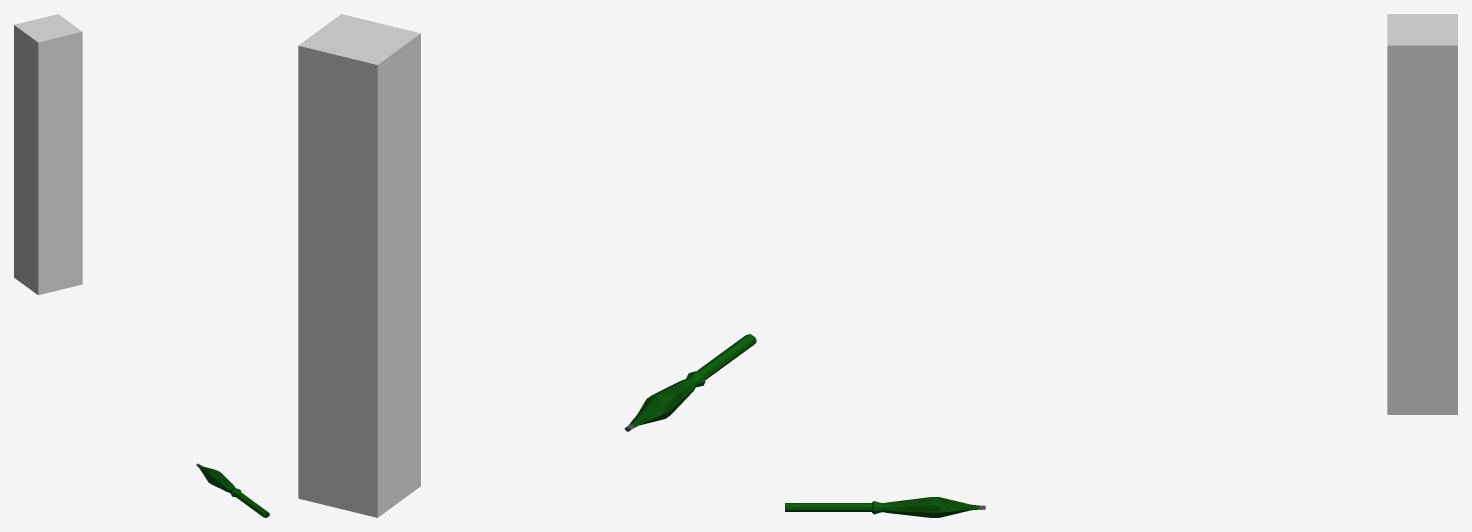
File: rocket.glb
3 renders of one model, left to right at view 1: azimuth 30°, elevation 25°; view 2: azimuth 150°, elevation 25°; view 3: azimuth 270°, elevation 25°, orthographic. The views are drawn at different scales.
Parts seen in each view (by area): view 1: Scale Reference, explosive; view 2: Scale Reference, explosive; view 3: Scale Reference, explosive.
Part boxes in pixels (x1,y1,x2,y2): Scale Reference: (14,14,82,295); explosive: (196,463,269,517); Scale Reference: (298,14,420,517); explosive: (624,334,756,431); Scale Reference: (1387,14,1457,414); explosive: (785,497,985,517).
Bounding box in the file's own units: 0.3672 × 2.64 × 3.3.
1 material, 1 textured.
